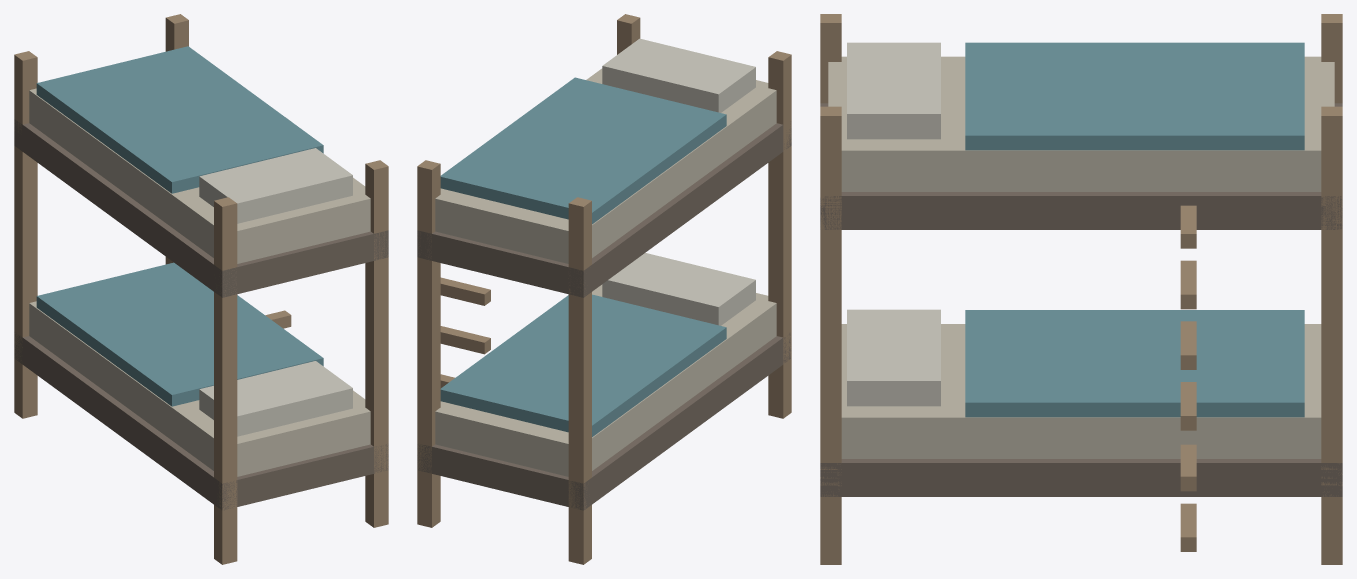
Rendered from bed_bunk_hostel.glb.
The picture shows the model from 3 angles, left to right: view 1: azimuth 30°, elevation 25°; view 2: azimuth 150°, elevation 25°; view 3: azimuth 270°, elevation 25°; orthographic projection. The views are drawn at different scales.
Parts seen in each view (by area): view 1: body; view 2: body; view 3: body.
Boxes of the visible parts, x1,y1,x2,y2 form: body: (14, 14, 388, 564); body: (417, 14, 791, 564); body: (820, 14, 1342, 564).
Bounding box in the file's own units: 1.15 × 1.85 × 1.95.
